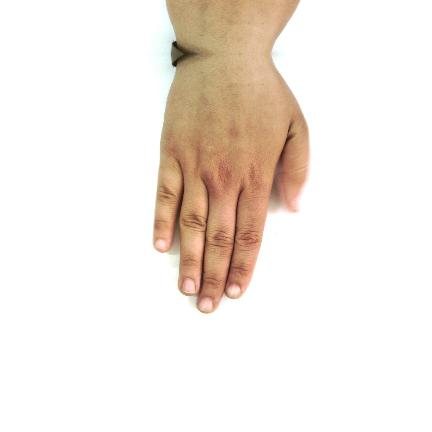Nail: (226, 284, 241, 299), (181, 278, 195, 294), (289, 196, 301, 211), (200, 298, 213, 311), (155, 239, 166, 251)
